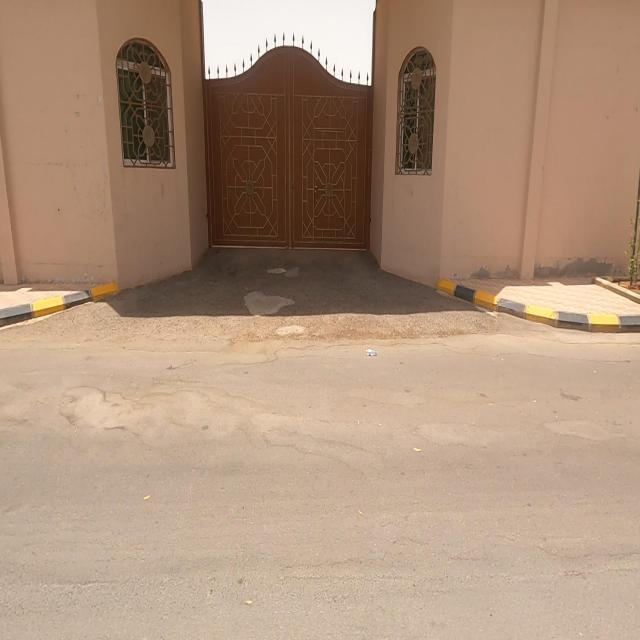debris: (337, 312, 400, 386)
